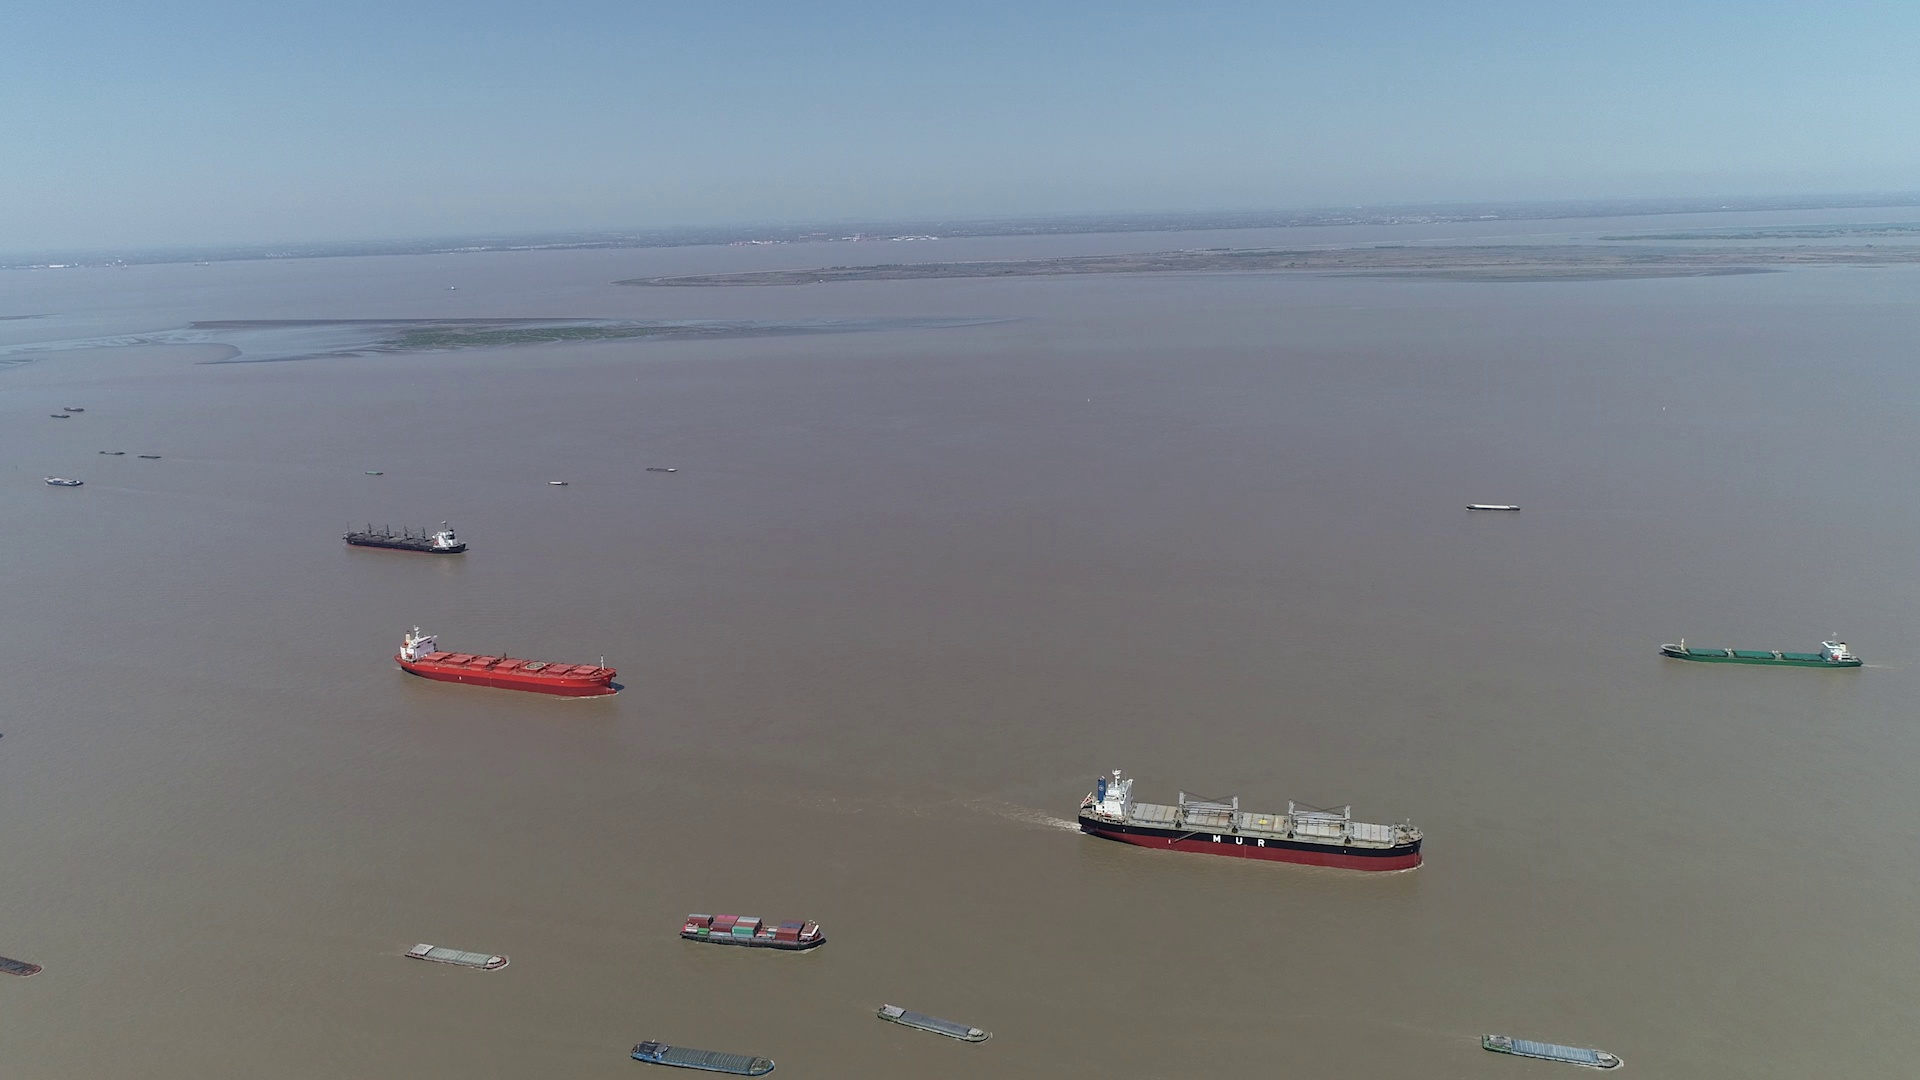ship: (1077, 771, 1423, 870), (396, 628, 616, 698), (1663, 636, 1859, 670), (680, 913, 825, 953), (630, 1040, 775, 1077), (1481, 1033, 1625, 1069), (878, 1002, 990, 1044), (342, 520, 465, 553), (405, 942, 508, 971), (0, 952, 40, 978), (1468, 501, 1522, 512), (45, 475, 84, 488), (645, 465, 678, 472)
